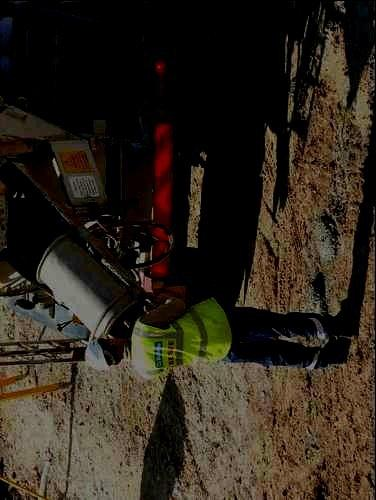helmet: (83, 335, 125, 371)
